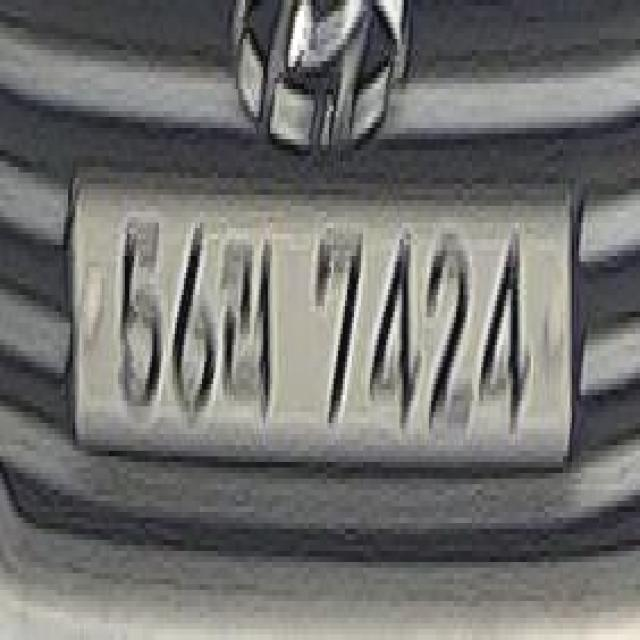illegal_plate: (72, 164, 579, 506)
